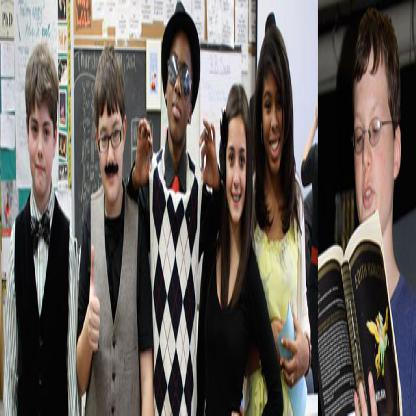face: (354, 41, 394, 242), (29, 91, 54, 195), (168, 35, 191, 139), (100, 101, 123, 204), (263, 68, 285, 174), (227, 120, 247, 221)
